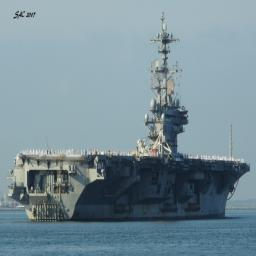Portanaves: (6, 17, 253, 223)
